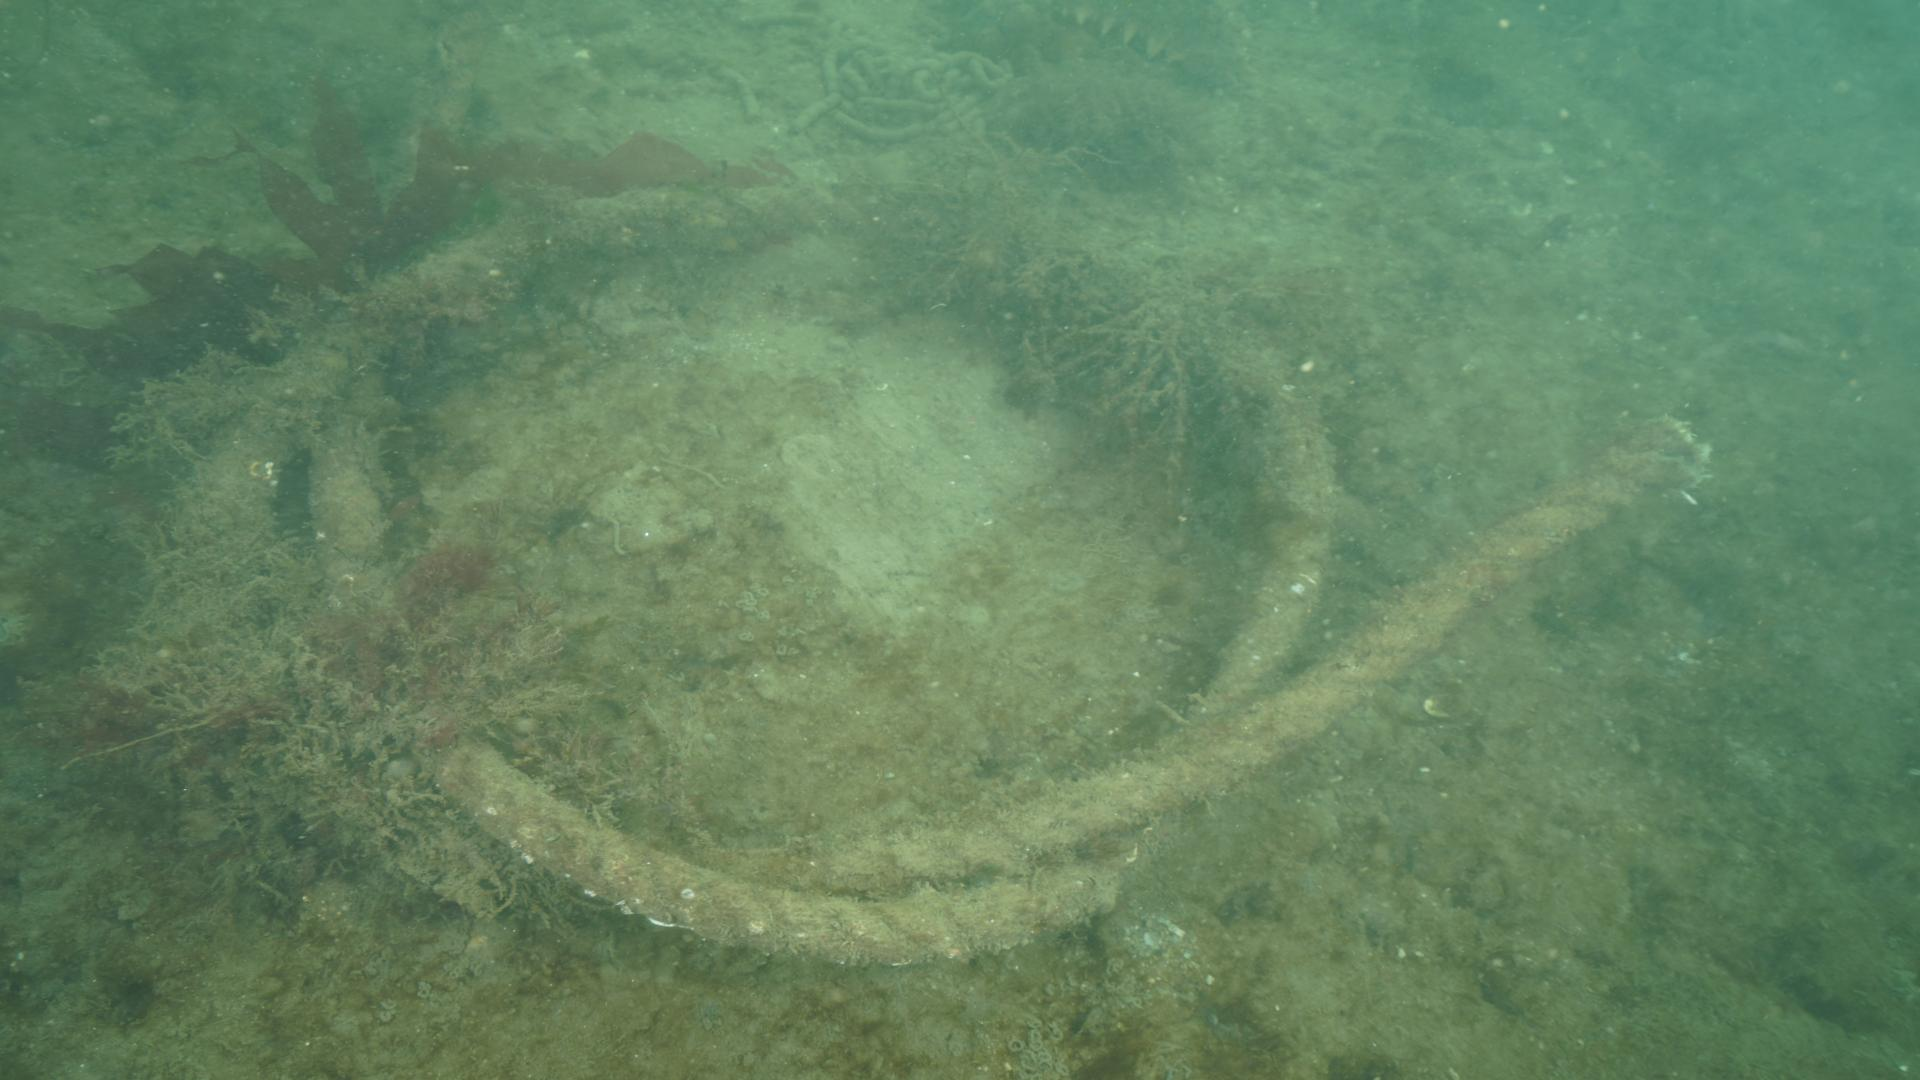bundle of ropes: (164, 144, 1673, 978)
